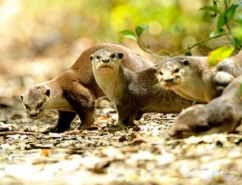otter: (87, 44, 156, 133), (15, 72, 100, 136), (151, 52, 242, 102)
